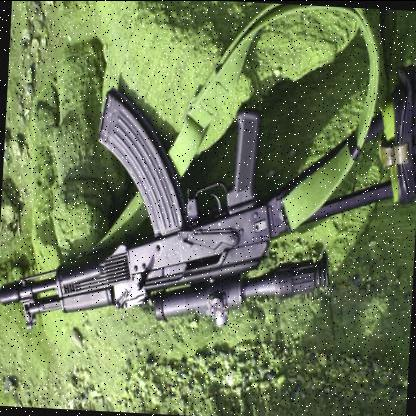rifle: (0, 80, 416, 351)
